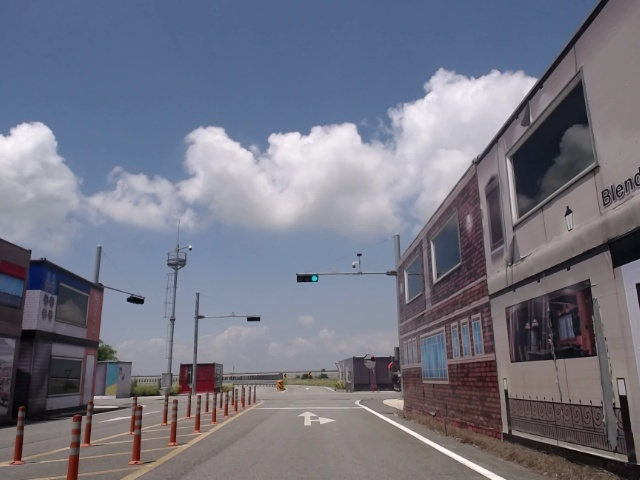green_3: (298, 275, 317, 282)
